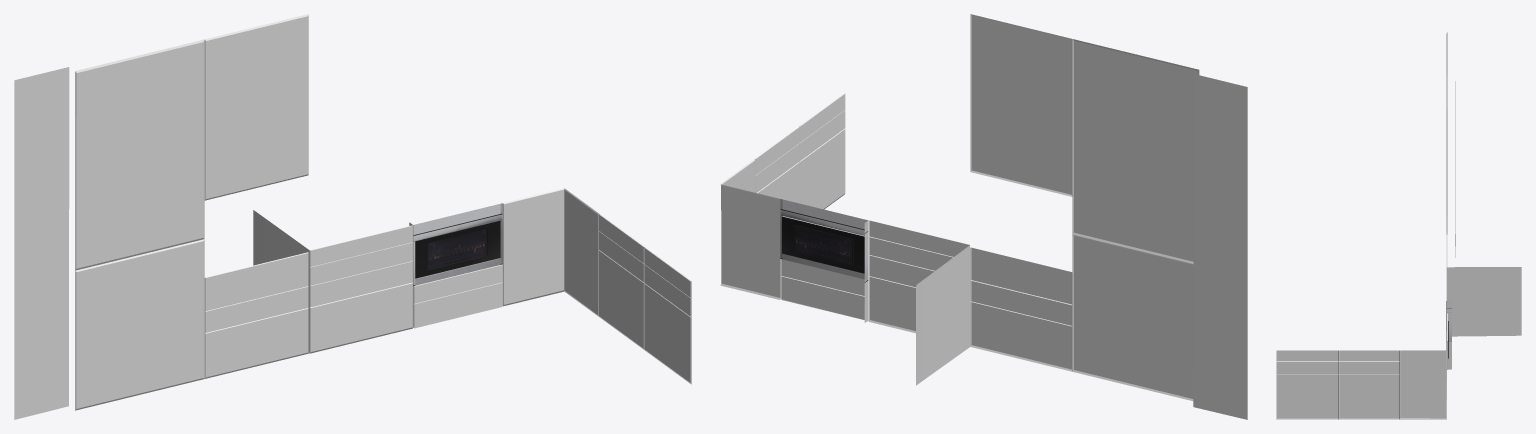
Rendered from Kitchen_Cabinets.fbx.
3 views of the same model, side by side, from view 1: azimuth 30°, elevation 25°; view 2: azimuth 150°, elevation 25°; view 3: azimuth 270°, elevation 25° (orthographic). The views are drawn at different scales.
Parts seen in each view (by area): view 1: Kitchen_Cabinets.008, Kitchen_Cabinets.009, Kitchen_Cabinets, Kitchen_Cabinets.007, Kitchen_Cabinets.006, Kitchen_Cabinets.004, Kitchen_Cabinets.003, Kitchen_Oven, Kitchen_Cabinets.005, Kitchen_Cabinets.002; view 2: Kitchen_Cabinets.008, Kitchen_Cabinets.009, Kitchen_Cabinets, Kitchen_Cabinets.007, Kitchen_Cabinets.006, Kitchen_Cabinets.004, Kitchen_Cabinets.003, Kitchen_Oven, Kitchen_Cabinets.005, Kitchen_Cabinets.002; view 3: Kitchen_Cabinets.004, Kitchen_Cabinets.006, Kitchen_Cabinets.002, Kitchen_Cabinets.007, Kitchen_Cabinets, Kitchen_Oven.
Boxes of the visible parts, left/top/right/bottom form: Kitchen_Cabinets.008: left=75, top=39, right=204, bottom=410; Kitchen_Cabinets.009: left=14, top=67, right=69, bottom=419; Kitchen_Cabinets: left=204, top=14, right=308, bottom=200; Kitchen_Cabinets.007: left=204, top=218, right=308, bottom=378; Kitchen_Cabinets.006: left=253, top=210, right=412, bottom=353; Kitchen_Cabinets.004: left=599, top=214, right=691, bottom=384; Kitchen_Cabinets.003: left=503, top=188, right=564, bottom=306; Kitchen_Oven: left=409, top=203, right=502, bottom=286; Kitchen_Cabinets.005: left=413, top=264, right=502, bottom=328; Kitchen_Cabinets.002: left=564, top=188, right=599, bottom=316; Kitchen_Cabinets.008: left=1072, top=39, right=1199, bottom=400; Kitchen_Cabinets.009: left=1193, top=74, right=1247, bottom=419; Kitchen_Cabinets: left=970, top=14, right=1072, bottom=196; Kitchen_Cabinets.007: left=916, top=247, right=1072, bottom=385; Kitchen_Cabinets.006: left=868, top=220, right=969, bottom=385; Kitchen_Cabinets.004: left=755, top=93, right=845, bottom=209; Kitchen_Cabinets.003: left=720, top=184, right=780, bottom=299; Kitchen_Oven: left=780, top=199, right=868, bottom=282; Kitchen_Cabinets.005: left=780, top=259, right=868, bottom=322; Kitchen_Cabinets.002: left=720, top=159, right=755, bottom=192; Kitchen_Cabinets.004: left=1276, top=350, right=1399, bottom=419; Kitchen_Cabinets.006: left=1446, top=267, right=1521, bottom=336; Kitchen_Cabinets.002: left=1400, top=350, right=1446, bottom=419; Kitchen_Cabinets.007: left=1446, top=234, right=1521, bottom=335; Kitchen_Cabinets: left=1446, top=75, right=1447, bottom=215; Kitchen_Oven: left=1447, top=301, right=1451, bottom=366.
Size of the model in its own units: 462 by 276 by 269.
2 materials, 2 textured.
